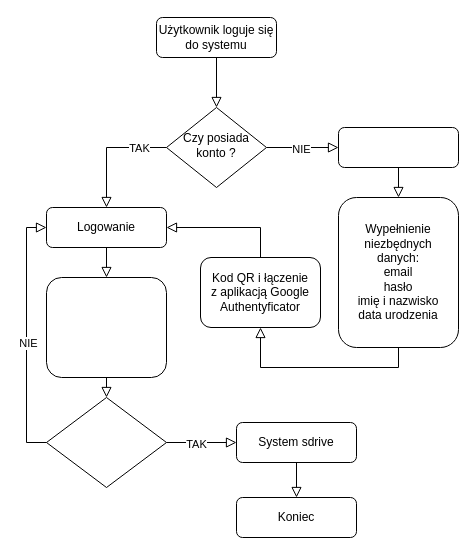
Some shapes in this 476 by 555 pixel diagram are drawn without their labels. The centre of each missing label's shape, as x and y in pixels:
"Czy dane były poprawne ?" goes at [106,442].
"Rejestracja" goes at [398,147].
"Wypełnienie niezbędnych danych: email hasło kod GA" goes at [106,327].
